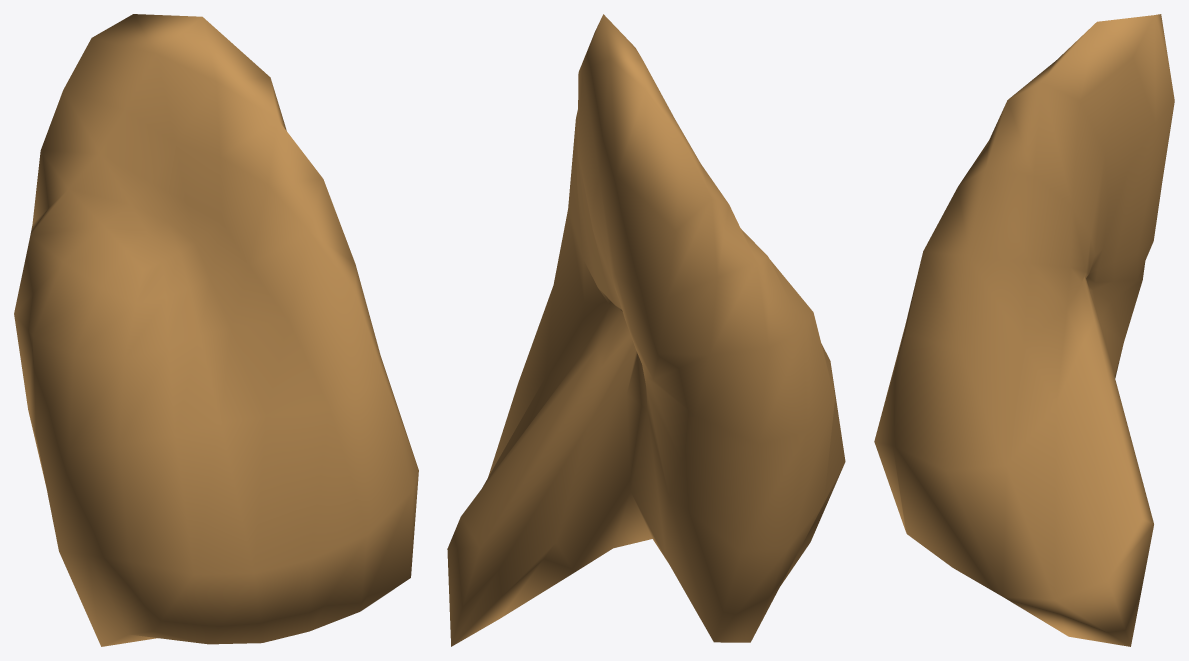
Rendered from coxa_T2_right_leg.obj.
The picture shows the model from 3 angles, left to right: view 1: azimuth 30°, elevation 25°; view 2: azimuth 150°, elevation 25°; view 3: azimuth 270°, elevation 25°; orthographic projection. The views are drawn at different scales.
Size of the model in its own units: 0.0151 by 0.0269 by 0.0129.
